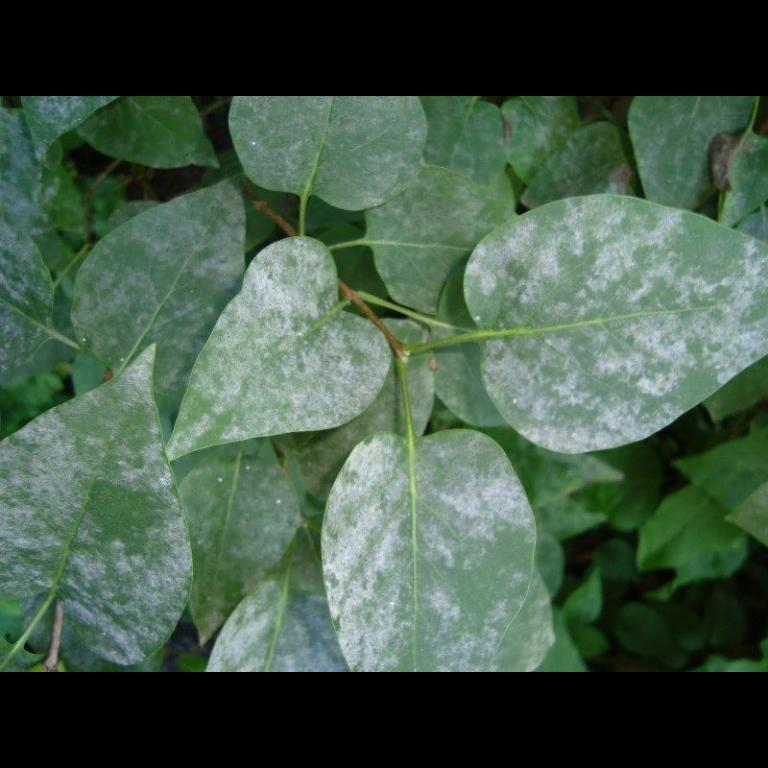powdery-mildew: (509, 234, 754, 372), (348, 464, 502, 666), (24, 422, 162, 632), (232, 298, 356, 414)
